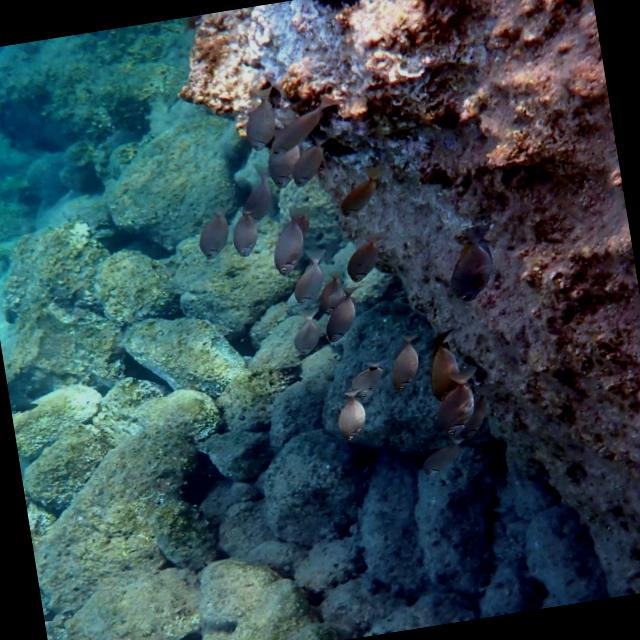Sokar Baligi: (424, 219, 511, 316), (182, 202, 238, 267), (322, 386, 378, 450)
